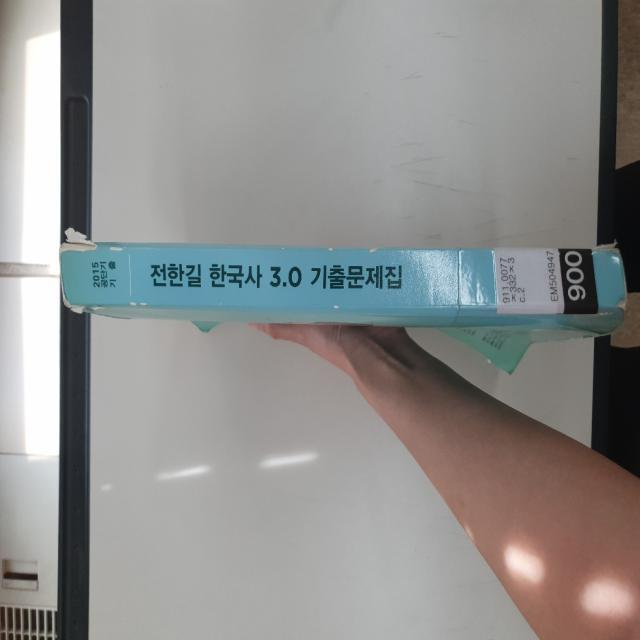Ripped: (59, 224, 100, 253), (65, 300, 107, 319), (591, 237, 623, 255)
Wornout: (614, 255, 629, 322), (56, 253, 69, 301), (126, 298, 152, 312), (108, 243, 127, 257), (366, 244, 381, 258), (324, 243, 337, 257), (332, 300, 343, 314), (280, 244, 290, 256)
